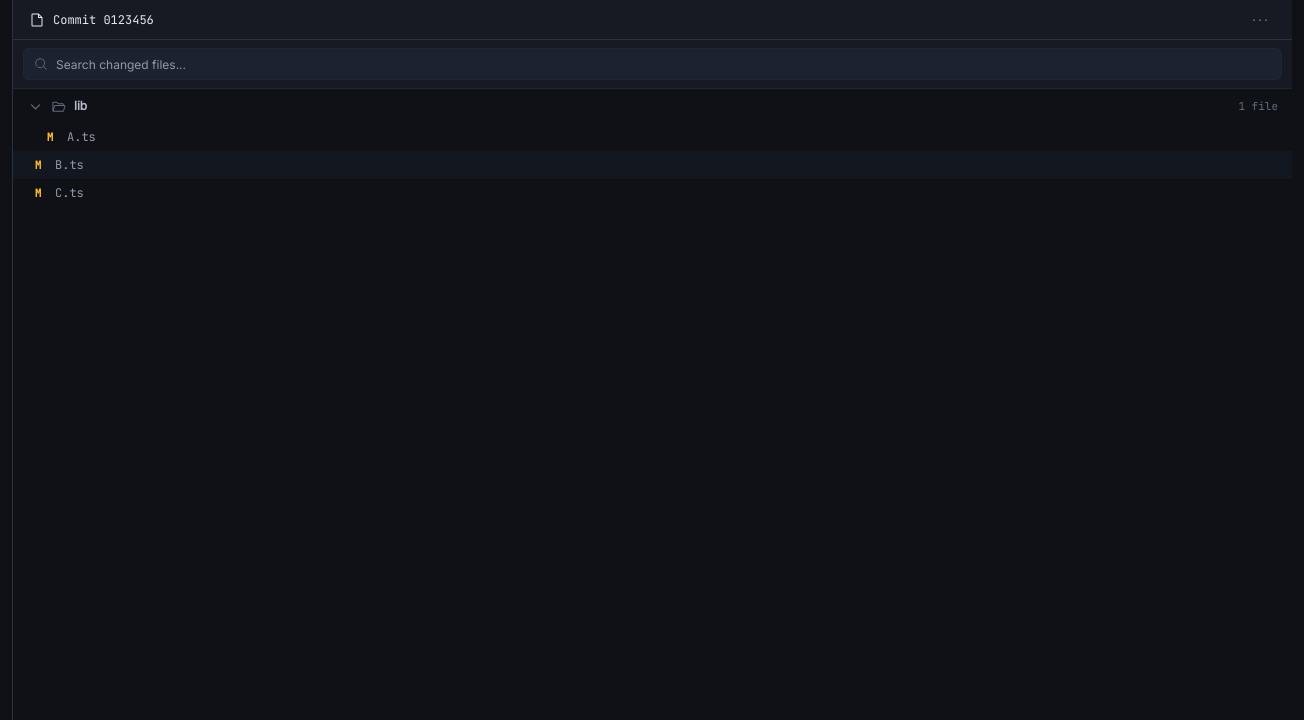
DiffPanel commit file tree › stripes only visible file rows and recalculates after collapse
Click the button named "Collapse lib": (35, 106) [27,98,43,114]
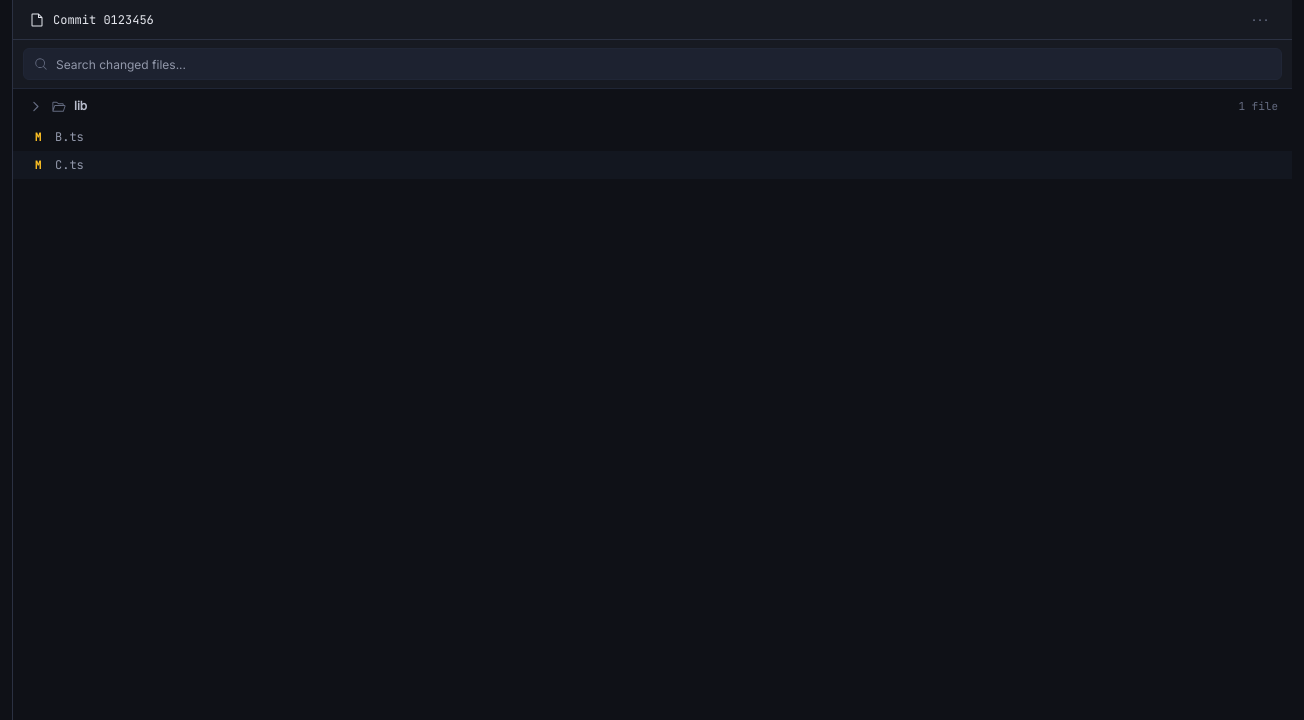
Check: the button "A.ts" is gone
